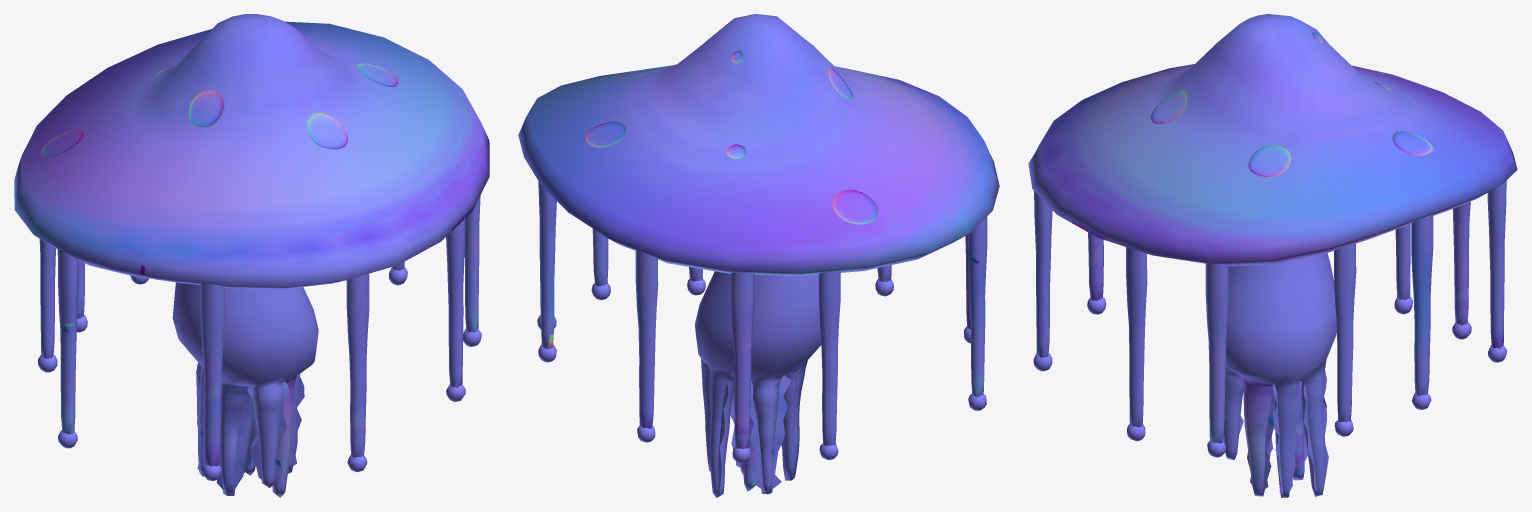
The model's file is fun_guy_UV_Fix.fbx.
3 views of the same model, side by side, from view 1: azimuth 30°, elevation 25°; view 2: azimuth 150°, elevation 25°; view 3: azimuth 270°, elevation 25° (orthographic). The views are drawn at different scales.
Visible parts, largest first — view 1: fun_guy.001; view 2: fun_guy.001; view 3: fun_guy.001.
Boxes of the visible parts, <box> form: fun_guy.001: <box>14,14,489,497</box>; fun_guy.001: <box>518,14,999,497</box>; fun_guy.001: <box>1028,14,1517,497</box>.
Size of the model in its own units: 218 by 228 by 216.
